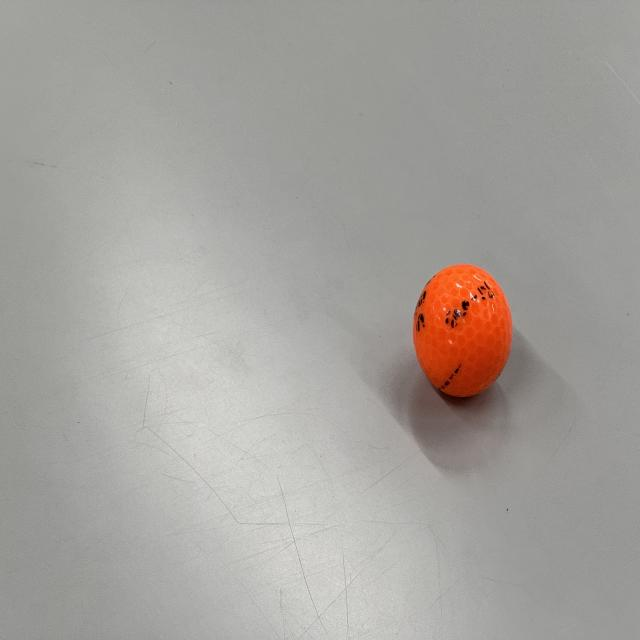ball: (410, 258, 515, 404)
